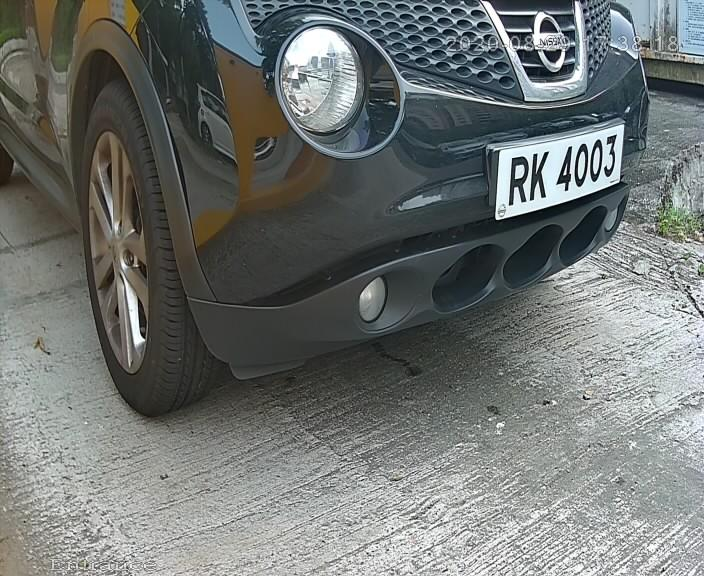License Plate: (488, 119, 629, 232)
